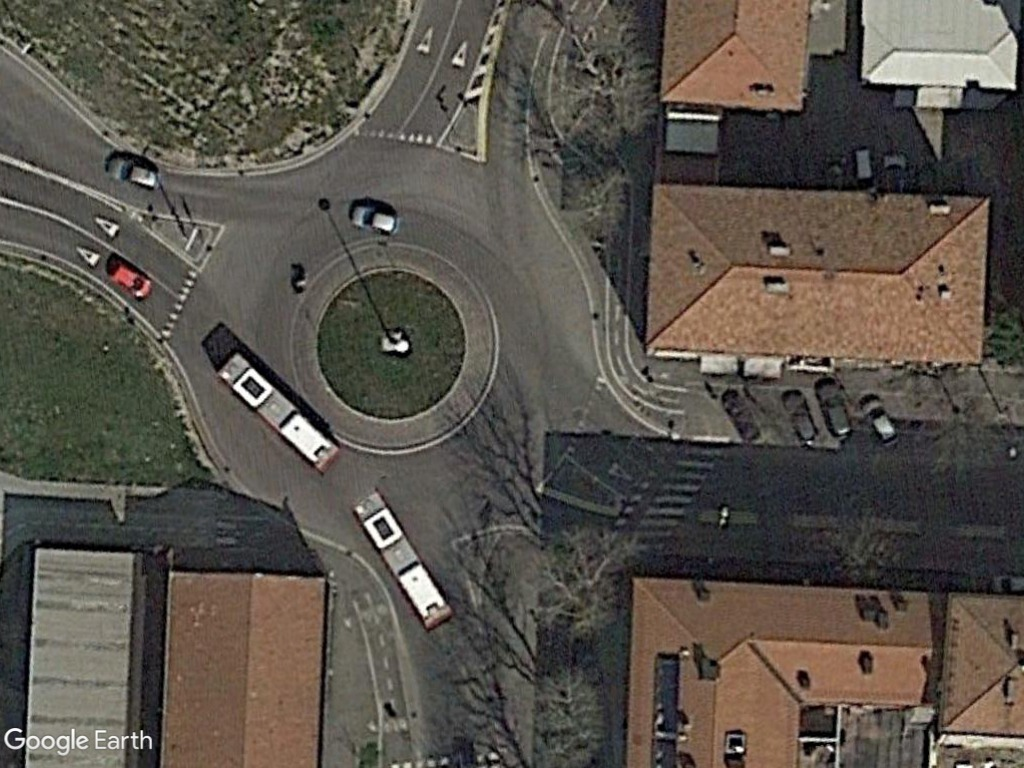bus: (214, 346, 345, 475), (351, 488, 458, 635)
car: (102, 151, 167, 196), (102, 256, 159, 304), (859, 393, 904, 452), (815, 378, 857, 441), (345, 201, 407, 239)
